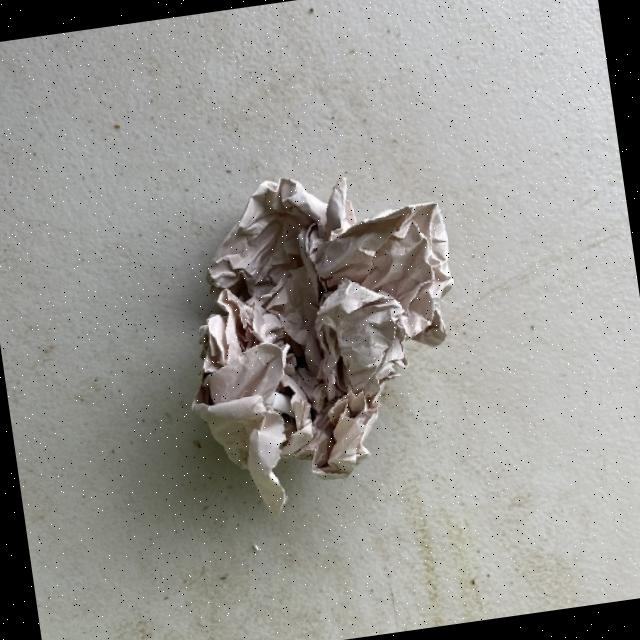paper: (0, 0, 640, 640), (160, 154, 483, 526)
